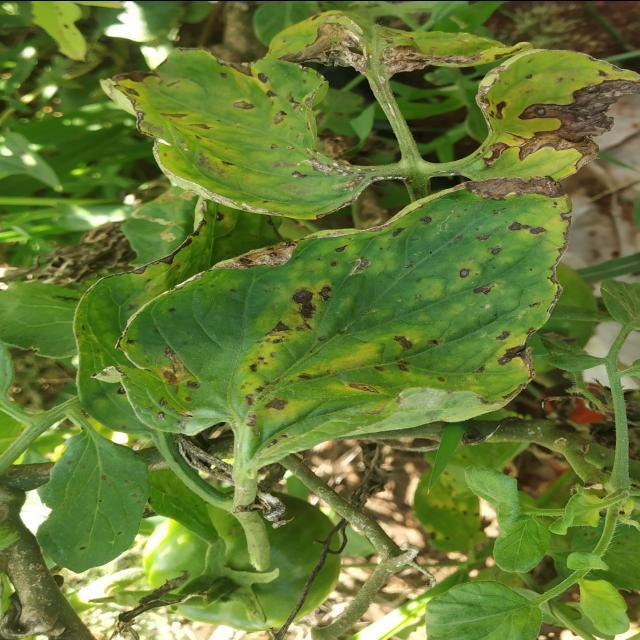Tomato mosaic virus leaf: (94, 173, 576, 460), (99, 44, 372, 222), (468, 46, 640, 175), (34, 437, 150, 574)
